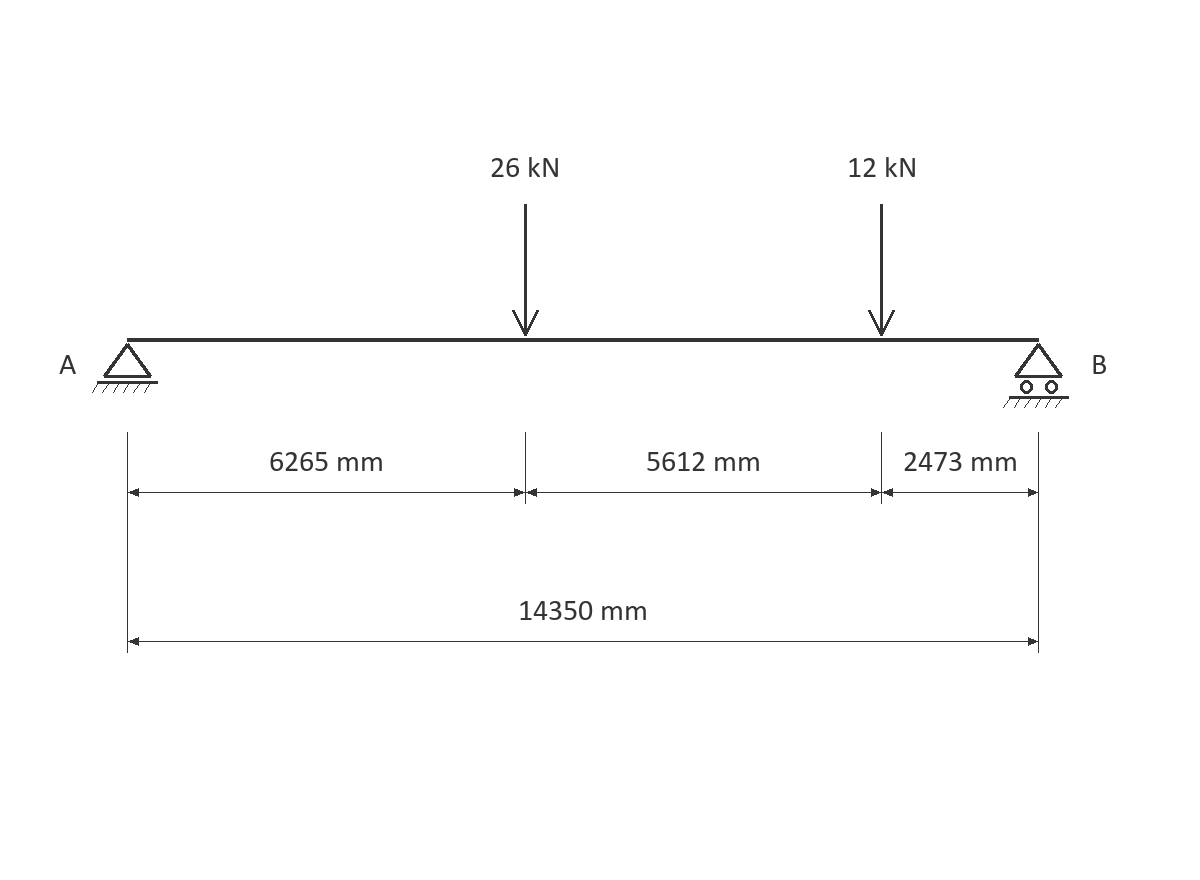pin_support: (92, 343, 158, 393)
point_load: (512, 204, 539, 336), (868, 204, 895, 336)
roller_support: (1003, 343, 1069, 408)
